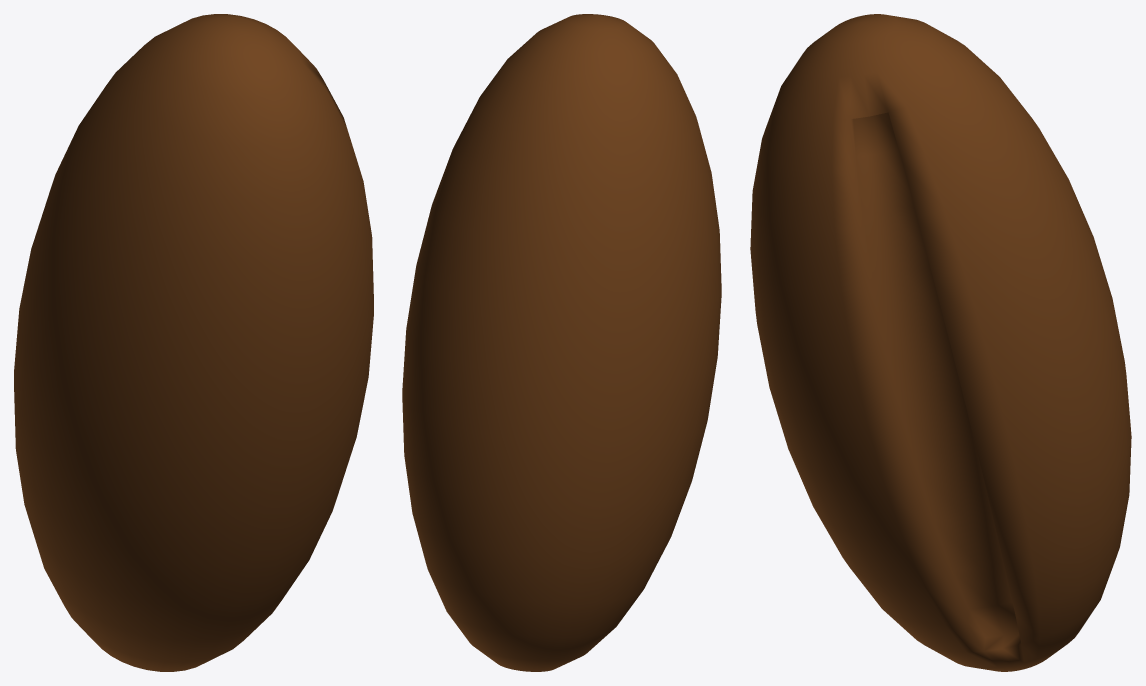
File: semilla .fbx
3 views of the same model, side by side, from view 1: azimuth 30°, elevation 25°; view 2: azimuth 150°, elevation 25°; view 3: azimuth 270°, elevation 25° (orthographic). The views are drawn at different scales.
Visible parts, largest first — view 1: SEMILLA 1; view 2: SEMILLA 1; view 3: SEMILLA 1.
Boxes of the visible parts, box(x1,y1,x2,y2) form: SEMILLA 1: box(14, 14, 373, 671); SEMILLA 1: box(402, 14, 721, 671); SEMILLA 1: box(750, 14, 1131, 671).
Size of the model in its own units: 8.16 by 17.82 by 9.58.
